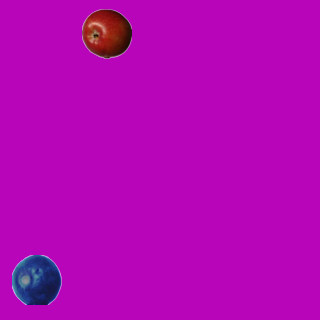Apple Braeburn: (81, 8, 131, 58)
Huckleberry: (11, 254, 61, 304)
